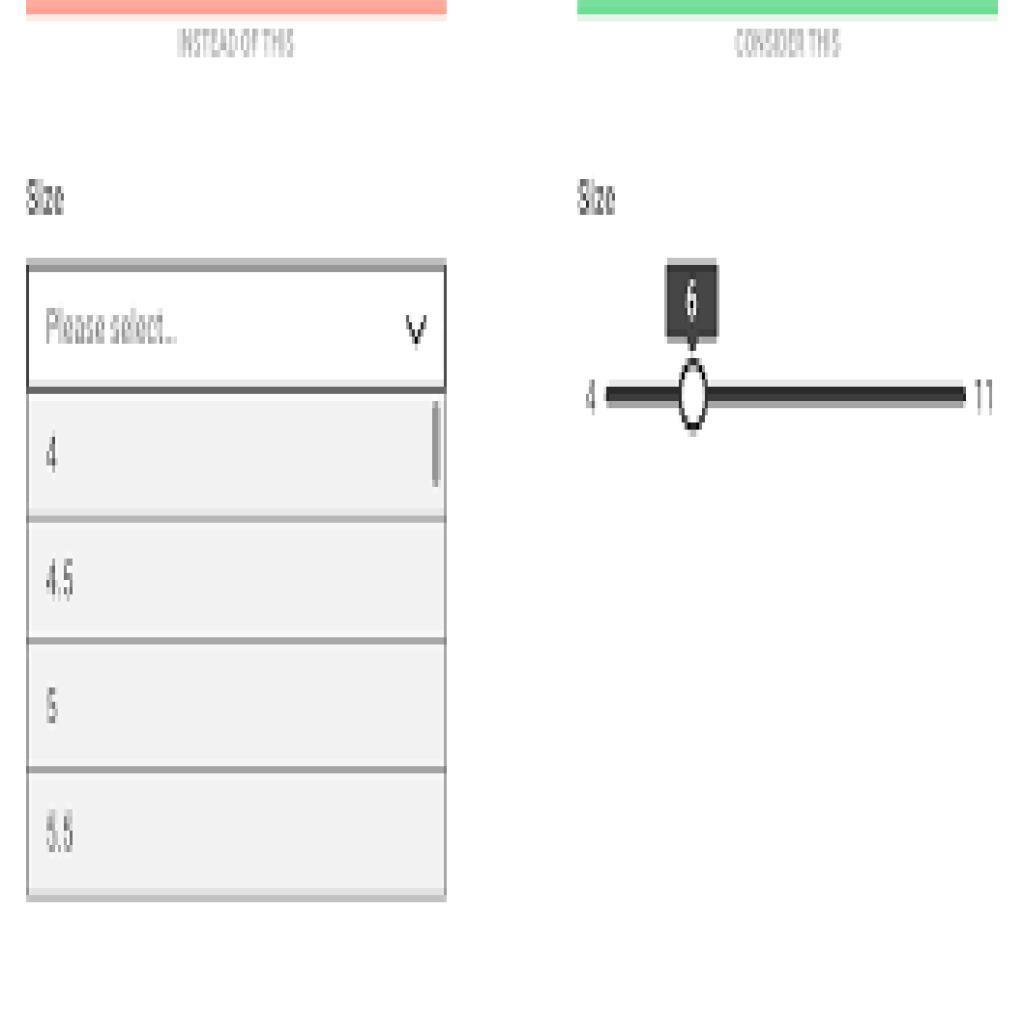dropdown: (25, 270, 450, 387)
slider: (587, 347, 999, 444)
